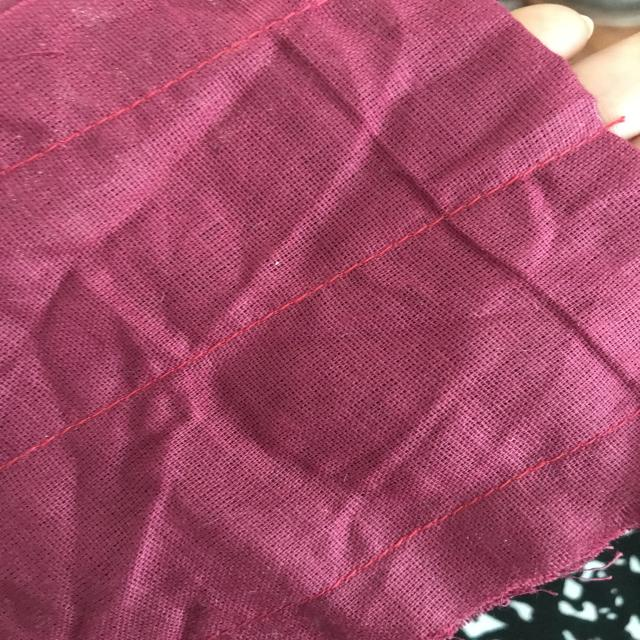good: (301, 233, 418, 316), (90, 368, 188, 437)
